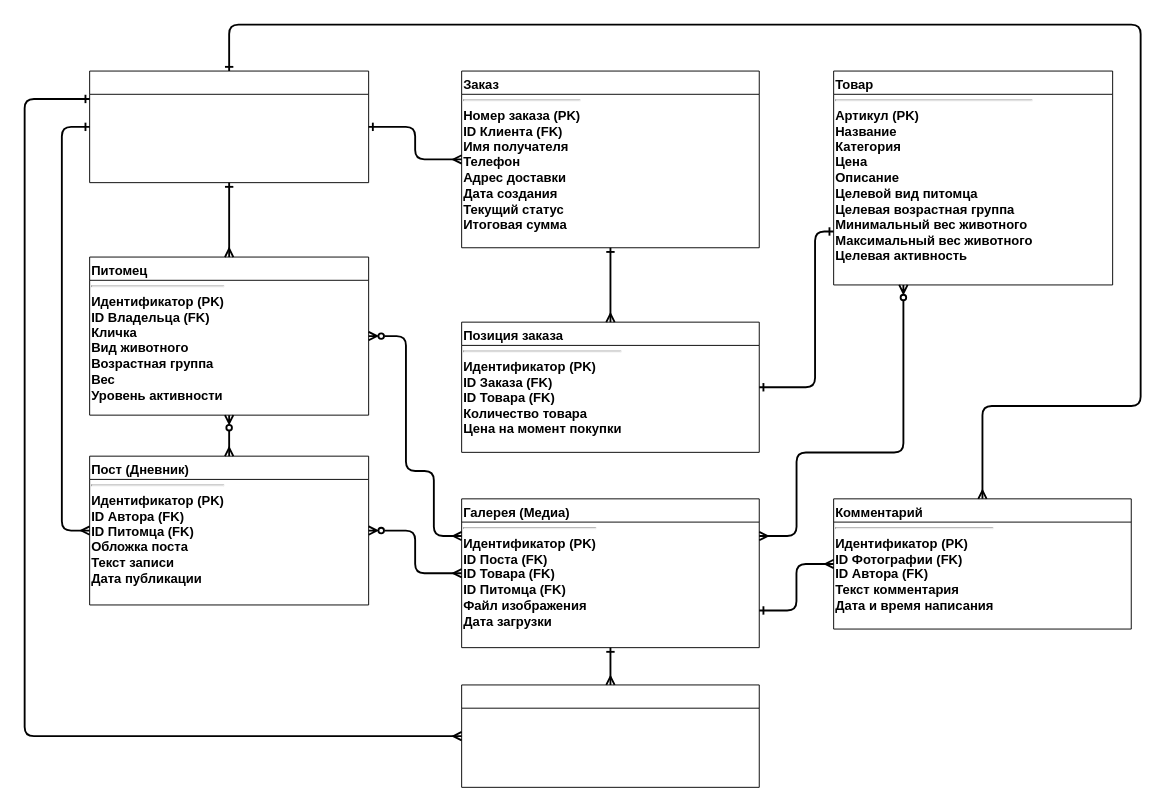
This 1165x804 diagram has some shape labels left out. The box of each missing label's shape, as (x1, y1, x2, y2) in pixels:
Лайк Идентификатор (PK) ID Фотографии (FK) ID Пользователя (FK): (461, 684, 759, 787)
Пользователь Идентификатор (PK) Электронная почта Пароль Роль в системе: (89, 70, 369, 183)
